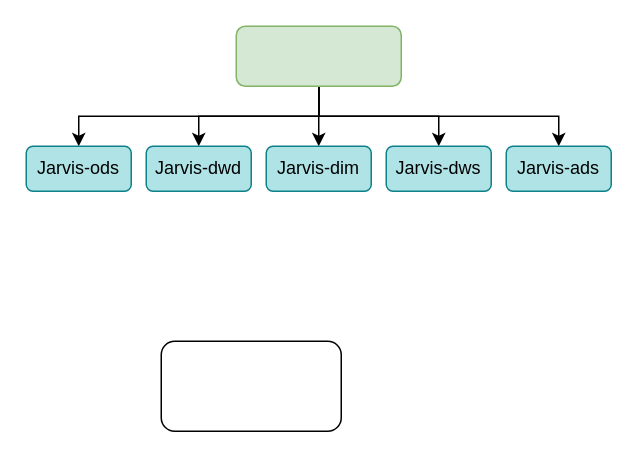
Image size: 638x458. Some labels were removed from this diagram. The shapes that lost their labels are listed below. From the top down, each one's box as (x1, y1, x2, y2) in pixels, then its label:
(235, 25, 401, 86): Jarvis-realtime
(160, 340, 341, 431): DWDSensorsEvents
